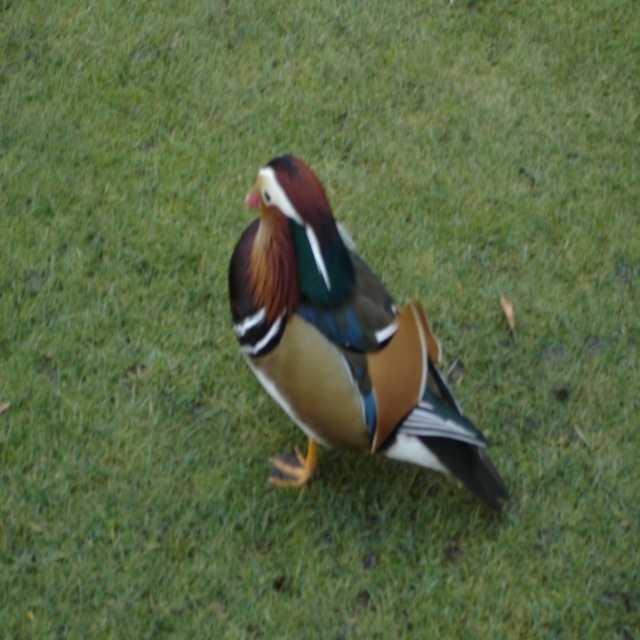Duck: (226, 157, 507, 540)
